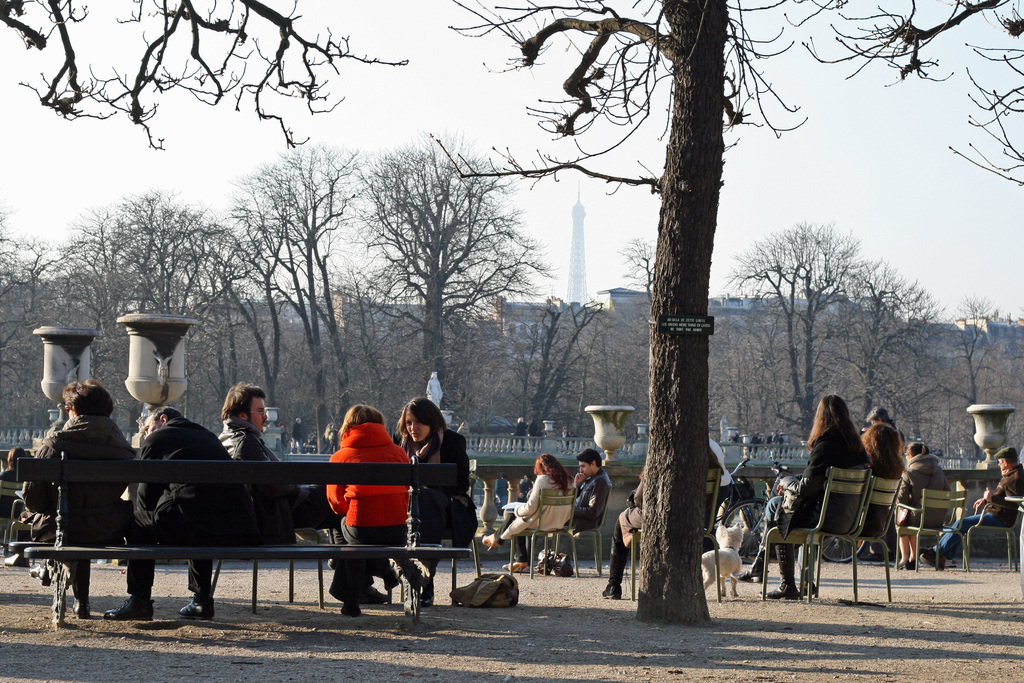Tree: (0, 0, 1023, 624), (0, 142, 1023, 436), (329, 131, 541, 386)
